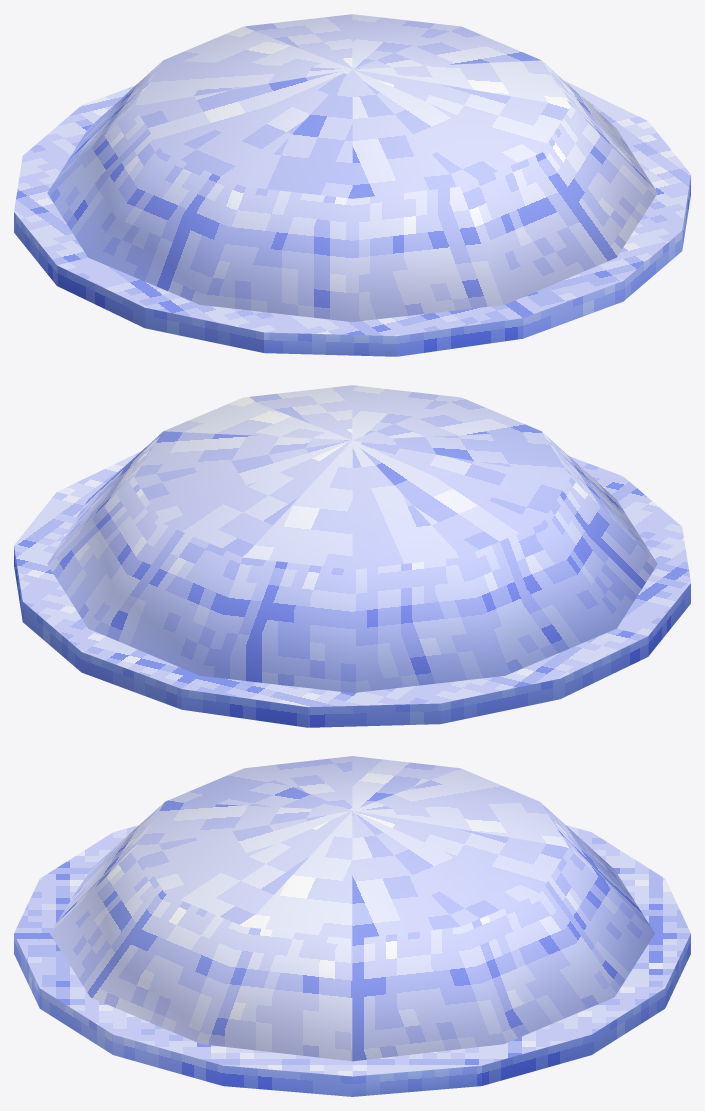
File: arch.ceiling_module.glb
3 renders of one model, top to bottom at view 1: azimuth 30°, elevation 25°; view 2: azimuth 150°, elevation 25°; view 3: azimuth 270°, elevation 25°, orthographic.
Parts seen in each view (by area): view 1: kit_ceiling_detail, kit_ceiling; view 2: kit_ceiling_detail, kit_ceiling; view 3: kit_ceiling_detail, kit_ceiling.
Part boxes in pixels (x1,y1,x2,y2): kit_ceiling_detail: (47,14,657,321); kit_ceiling: (14,81,690,356); kit_ceiling_detail: (47,385,657,692); kit_ceiling: (14,452,690,727); kit_ceiling_detail: (50,756,654,1061); kit_ceiling: (14,825,690,1096).
Size of the model in its own units: 3 by 0.7 by 3.
1 material, 1 textured.
